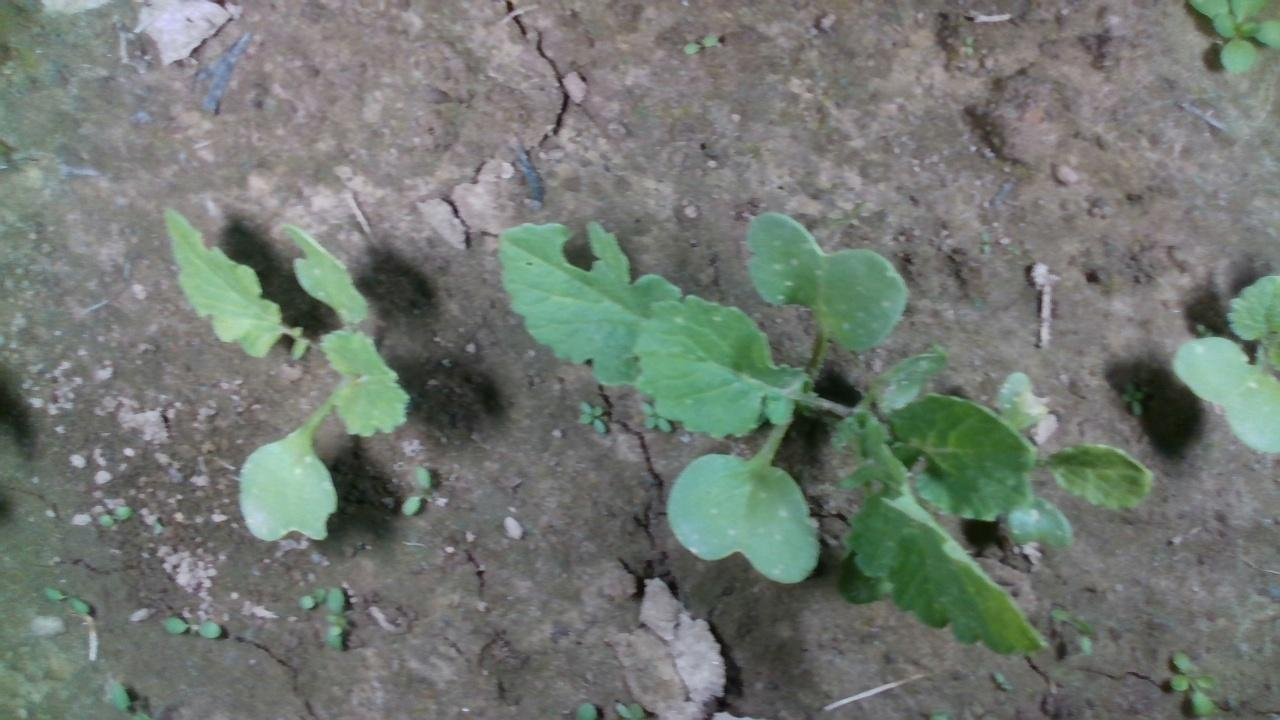weed: (1170, 649, 1217, 715), (169, 611, 225, 644), (325, 586, 349, 652), (678, 29, 729, 60), (400, 462, 429, 516), (575, 400, 613, 436), (42, 587, 89, 613), (97, 500, 124, 531), (294, 583, 325, 609)
